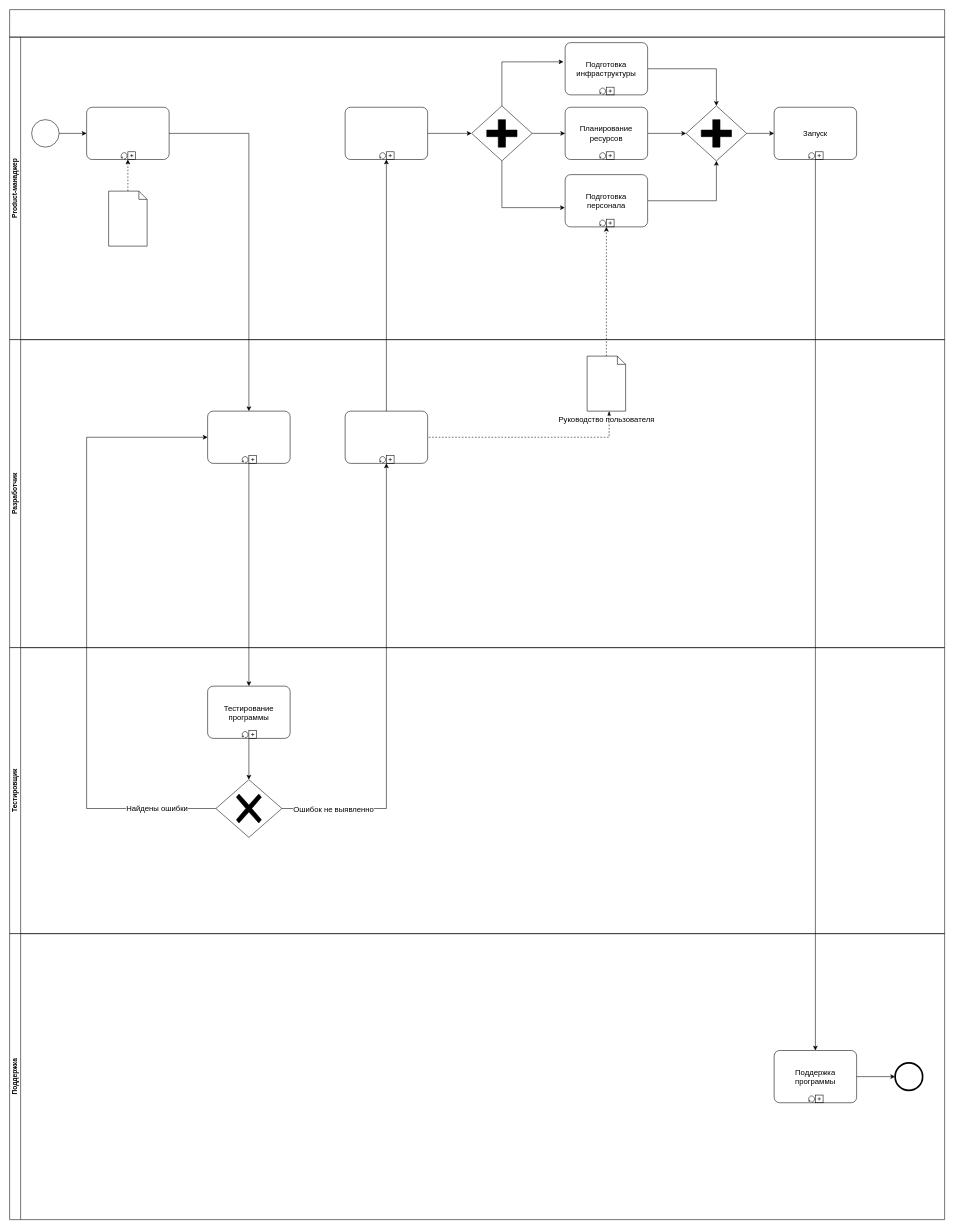
The diagram is 954 pixels wide and 1229 high, and some of its shapes have lost their labels. The centre of each missing label's shape, as x and y in pixels:
"График и бюджет" belongs at [127,218].
"планирование релиза определение целей и функций" belongs at [127,133].
"Подготовка к запуску" belongs at [386,133].
"Разработка и отладка" belongs at [248,437].
"Релиз программного продукта" belongs at [477,23].
"Создание установочного пакета" belongs at [386,437].
